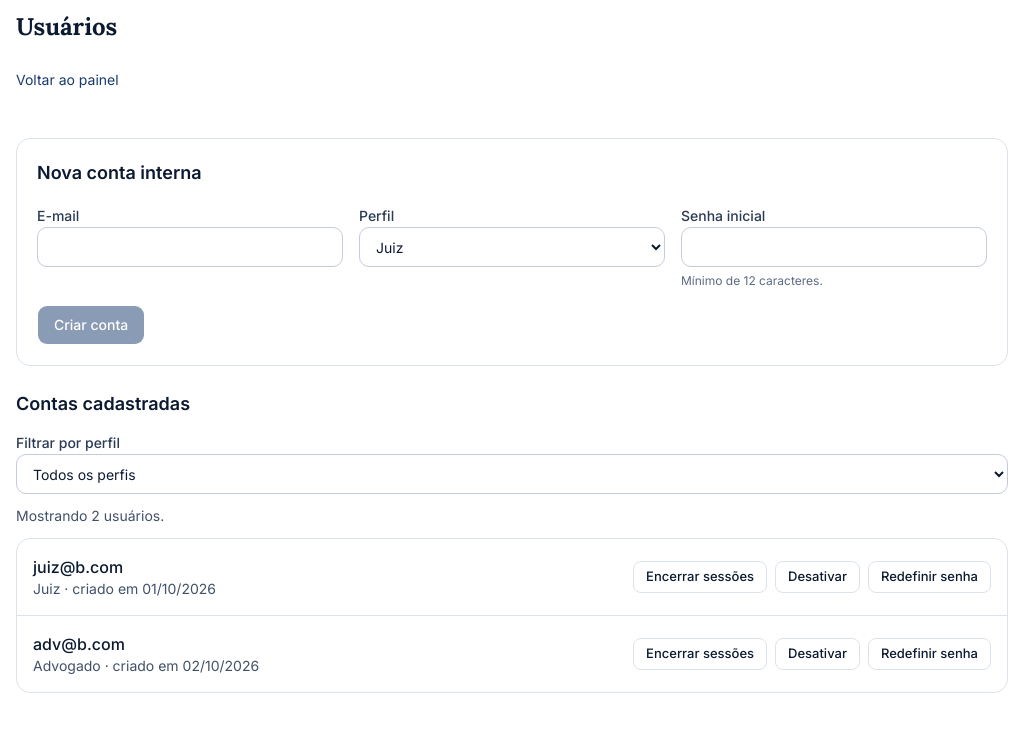
UsersAdmin › shows the server error in an alert and clears the password
Expected: the text "juiz@b.com" is shown, [33, 557, 123, 577]
Type "juiz@b.com" into the field labelled "E-mail" at {"x": 190, "y": 247}, box [37, 227, 343, 267]
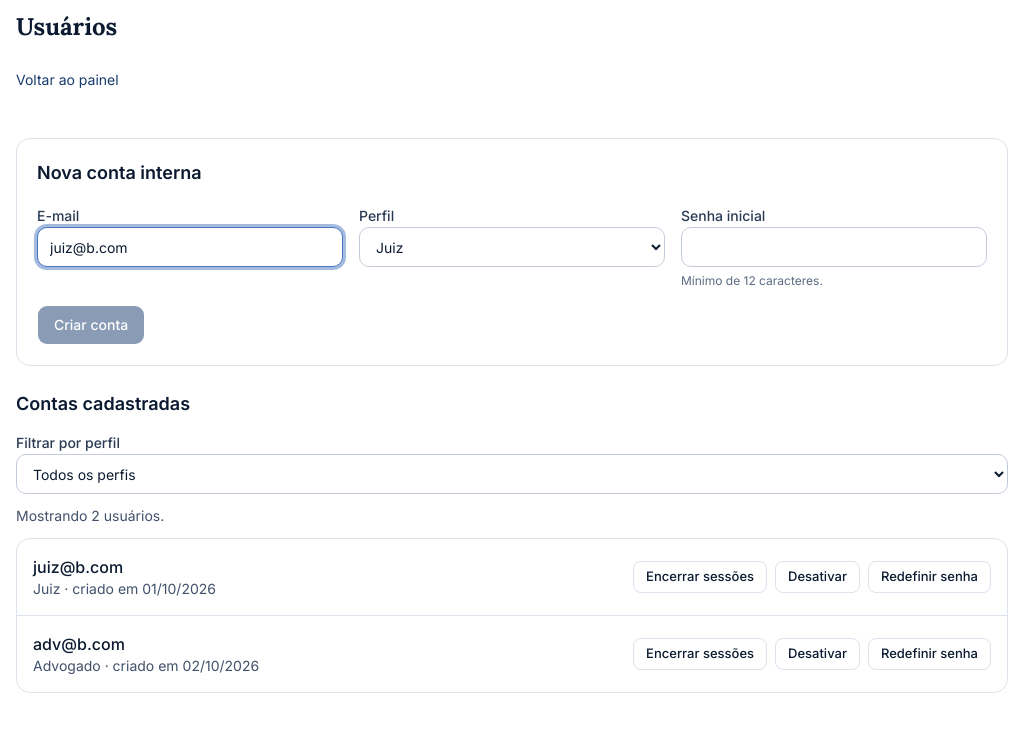
Type "senha-forte-123" into the password field labelled "Senha inicial" at {"x": 834, "y": 247}, box [681, 227, 987, 267]
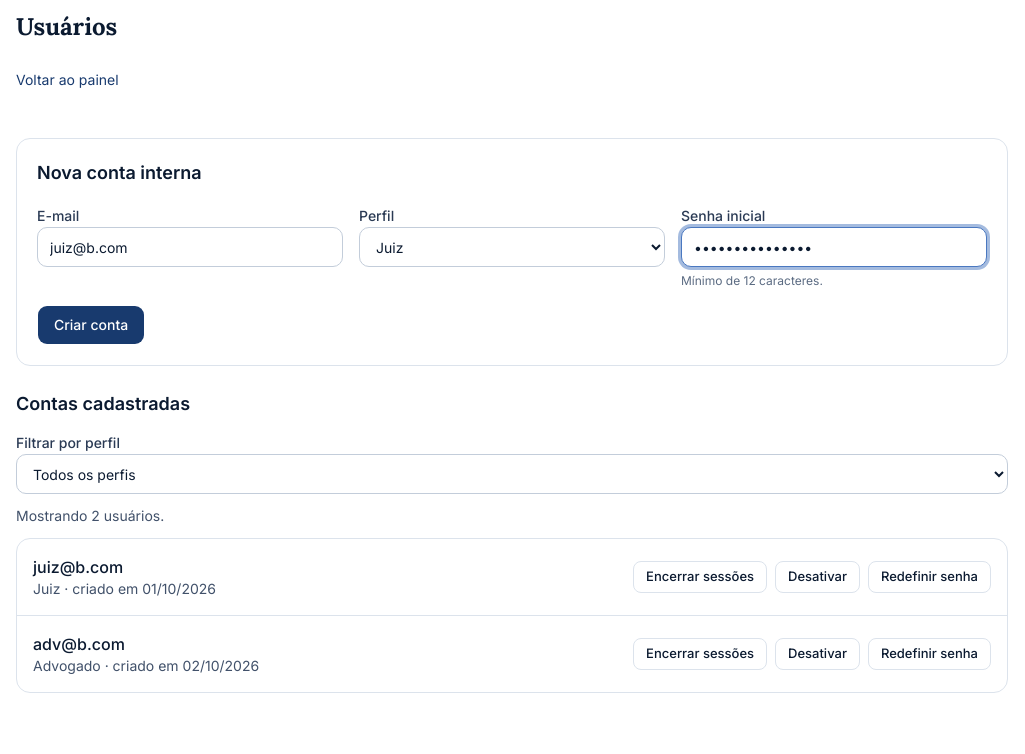
Click the button "Criar conta" at {"x": 91, "y": 325}, box [37, 305, 145, 345]
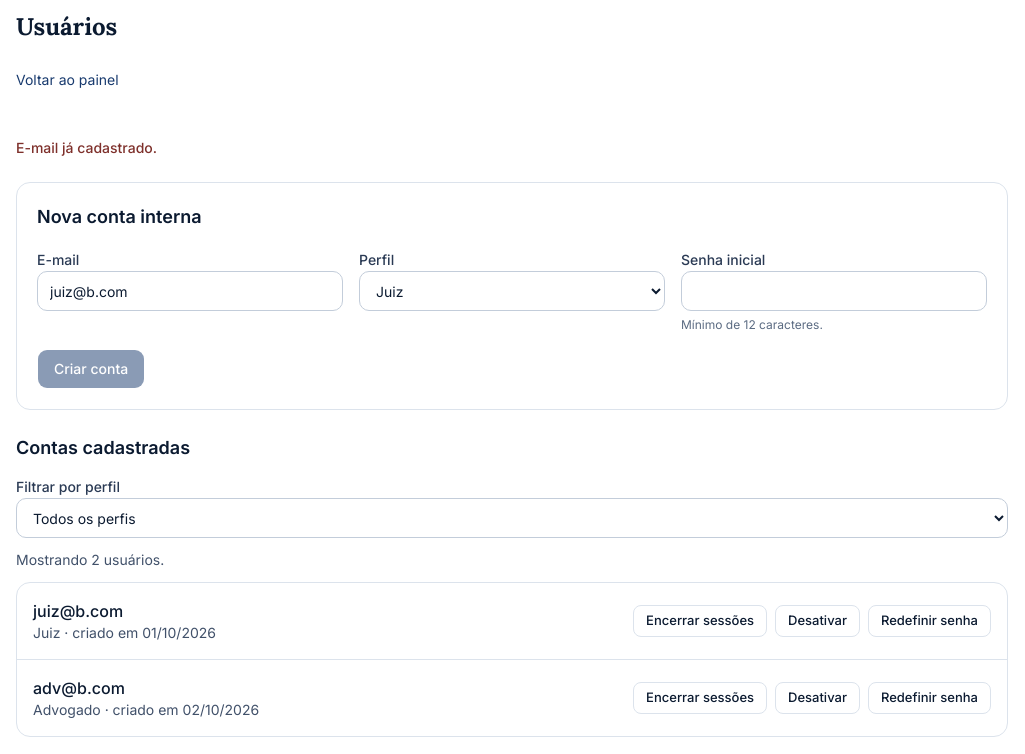
Now the message reads "E-mail já cadastrado.", box [16, 139, 157, 156]
Now the password field labelled "Senha inicial" is empty, box [681, 271, 987, 311]
